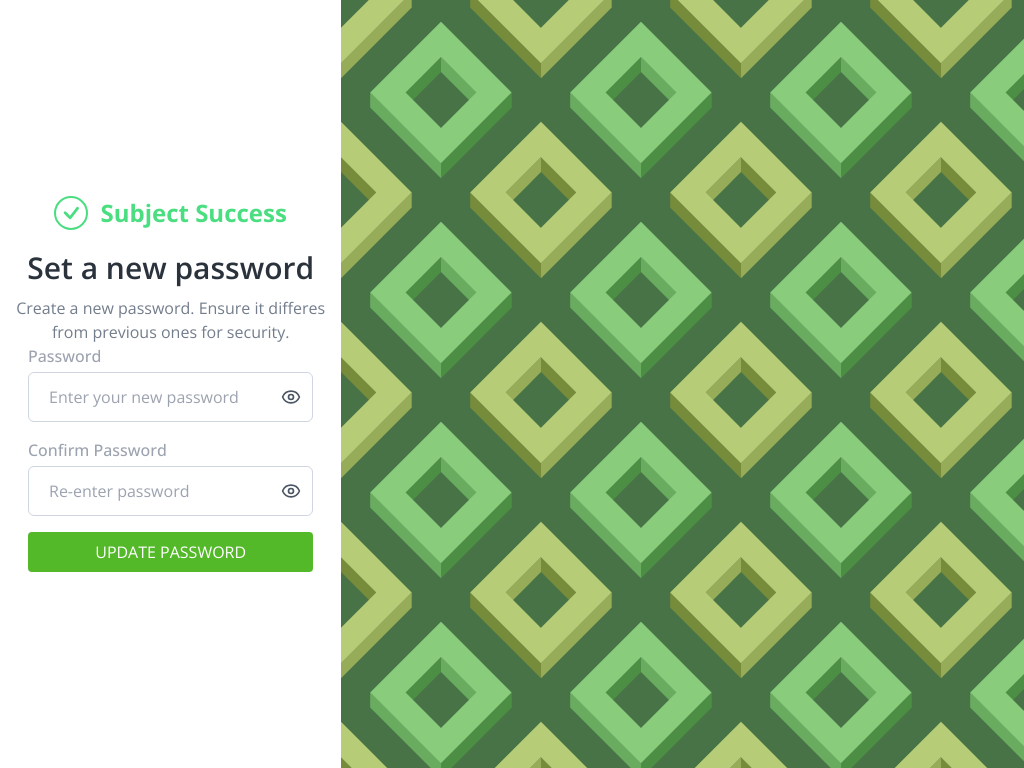
Reset Password Test › should dispay error when each of password dont match criteria
This screenshot has width=1024, height=768.
Type "123456789" into the password field labelled "Password".
click(171, 397); type("123456789")  # box [28,372,313,422]
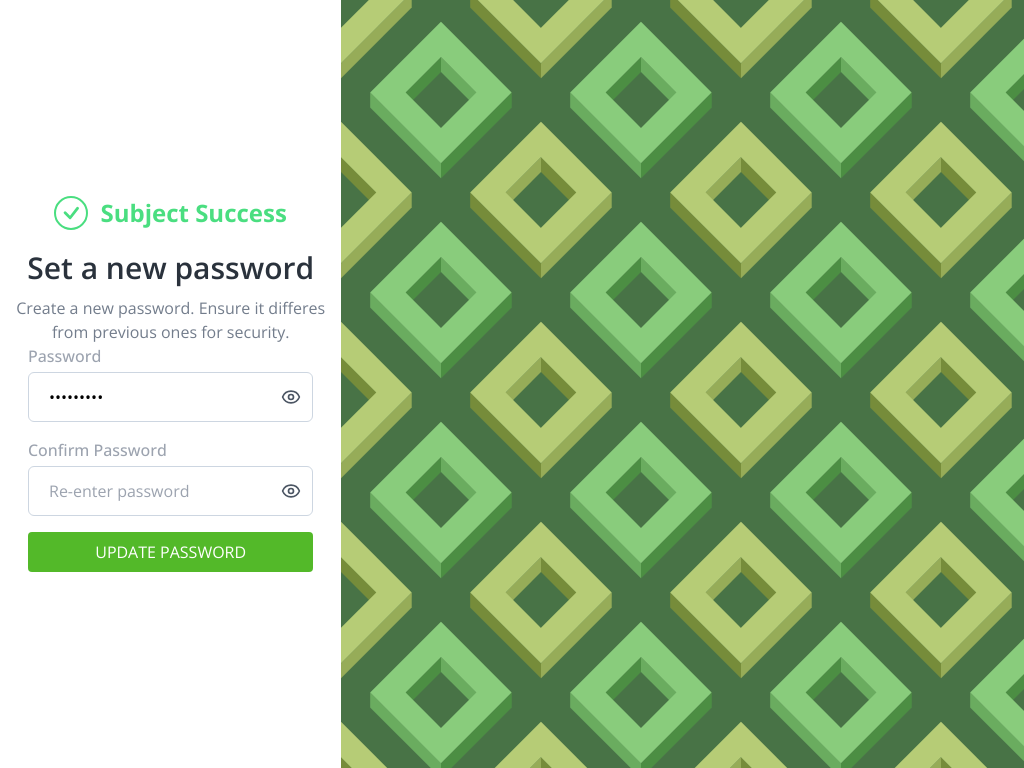
Type "123456789" into the password field labelled "Confirm Password".
click(171, 491); type("123456789")  # box [28,466,313,516]
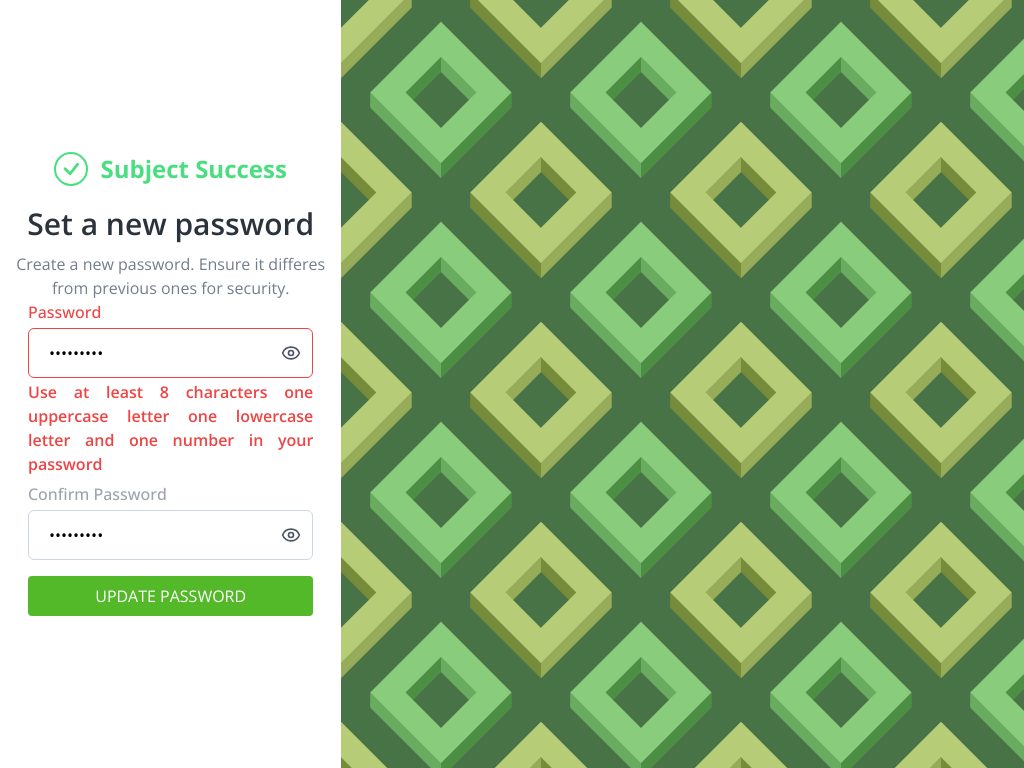
Click the button "update password".
click(171, 596)  # box [28,576,313,616]
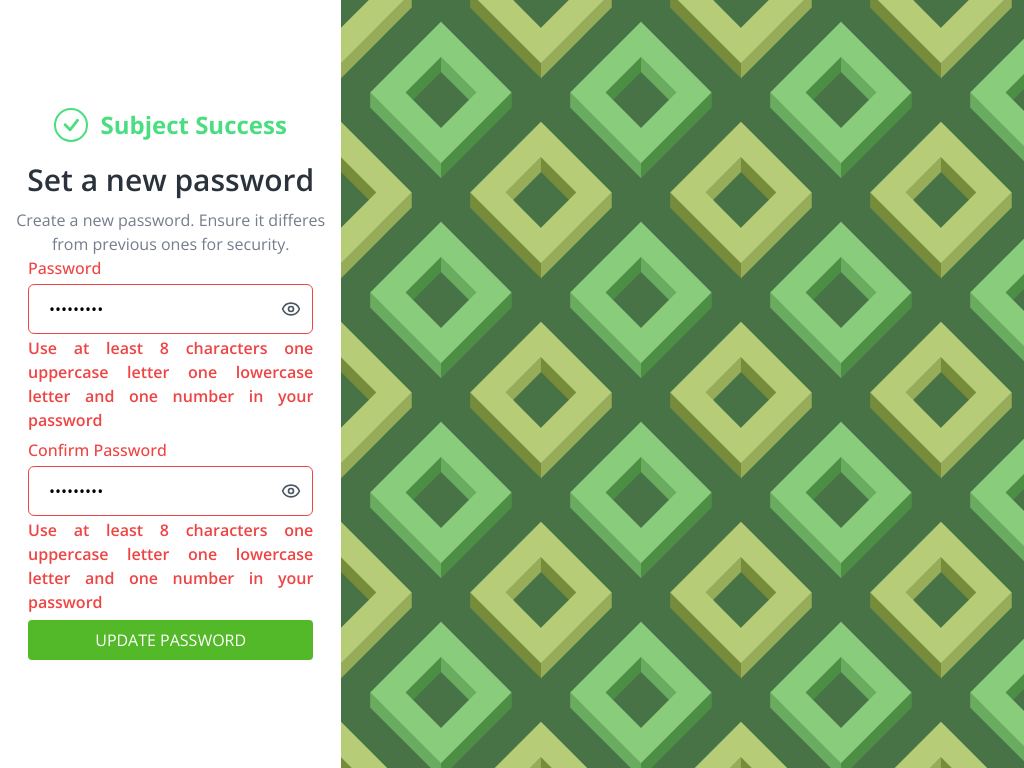
Check: the text "use at least 8 characters one uppercase letter one lowercase letter and one number in your password" is shown 2 times, box [28,336,313,432]; [28,518,313,614]
